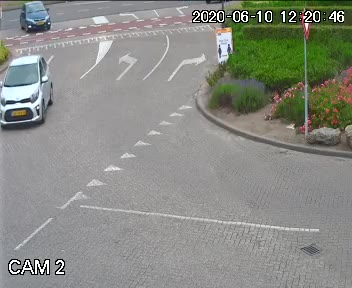car: (0, 48, 53, 136), (17, 0, 50, 33)
